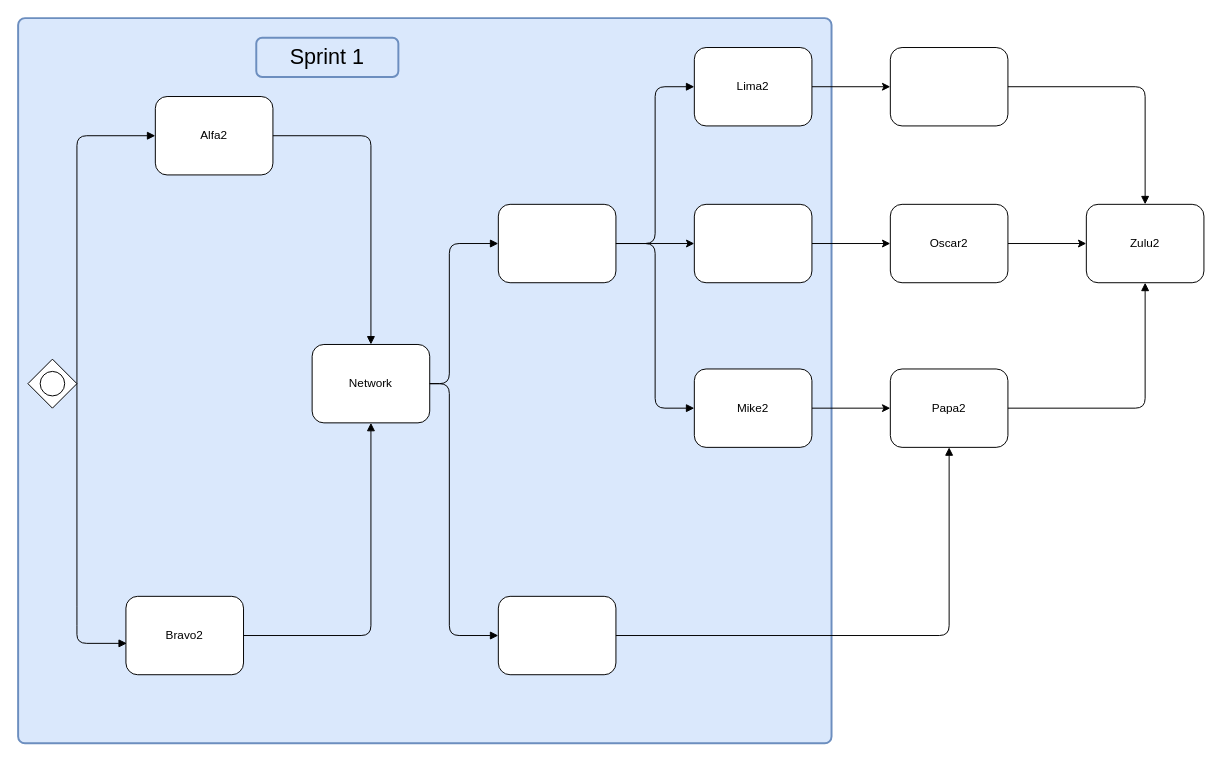
Image size: 1221x760. Some labels were removed from this diagram. The centre of each missing label's shape, as x and y in pixels:
"Charlie3" belongs at pixel 948 86.
"Delta2" belongs at pixel 752 243.
"Kilo2" belongs at pixel 556 635.
"November2" belongs at pixel 556 243.
